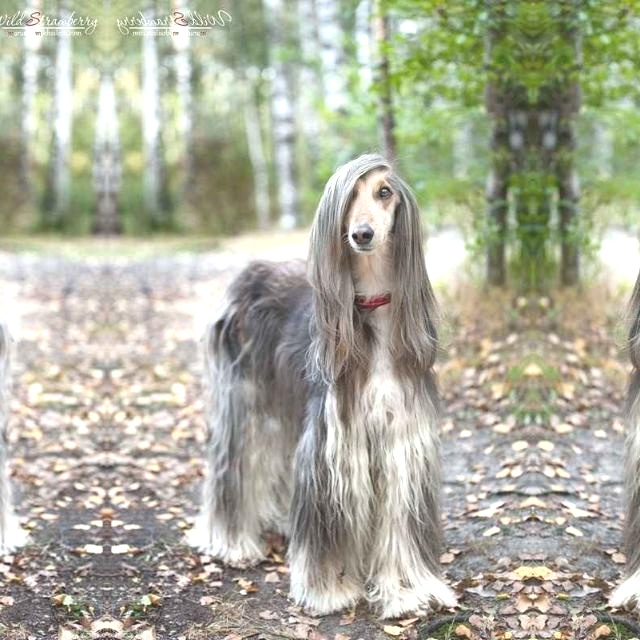dog: (179, 140, 461, 612), (0, 140, 36, 612), (607, 140, 640, 612)
